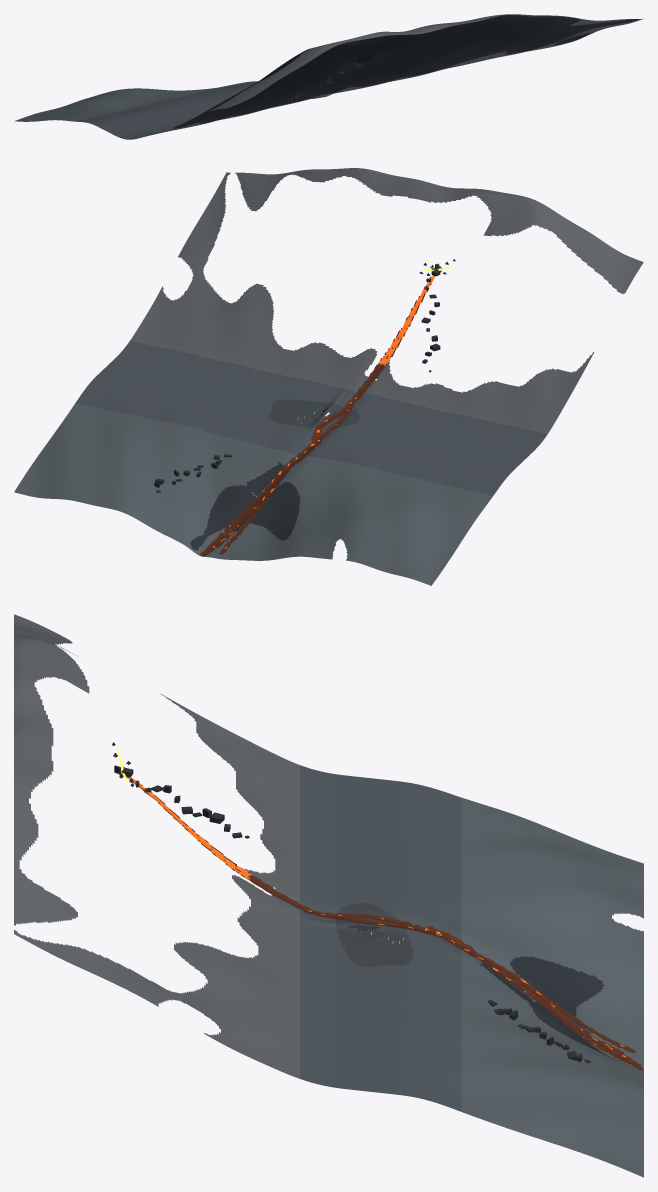
File: ember-midflank-fire-pilgrimage-graybox-r5.glb
3 views of the same model, one above another, from view 1: azimuth 30°, elevation 25°; view 2: azimuth 150°, elevation 25°; view 3: azimuth 270°, elevation 25° (orthographic). The views are drawn at different scales.
Parts seen in each view (by area): view 1: EMBER_Terrain; view 2: EMBER_Terrain, EMBER_LavaSimulatorDeposit, EMBER_FlankButtresses; view 3: EMBER_Terrain, EMBER_LavaSimulatorDeposit, EMBER_FlankButtresses.
Part boxes in pixels (bbox=[...]): EMBER_Terrain: bbox=[14, 14, 643, 139]; EMBER_Terrain: bbox=[14, 168, 643, 585]; EMBER_LavaSimulatorDeposit: bbox=[200, 268, 439, 556]; EMBER_FlankButtresses: bbox=[154, 263, 440, 492]; EMBER_Terrain: bbox=[14, 614, 643, 1177]; EMBER_LavaSimulatorDeposit: bbox=[116, 770, 642, 1070]; EMBER_FlankButtresses: bbox=[114, 765, 590, 1063].
Size of the model in its own units: 380 by 201 by 335.
